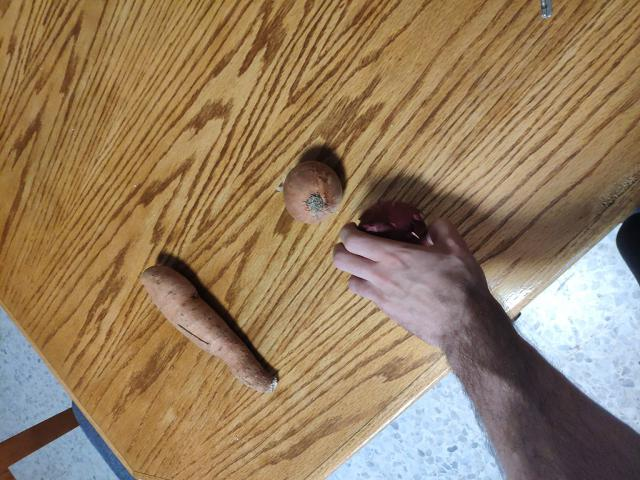onion: (358, 204, 420, 266)
